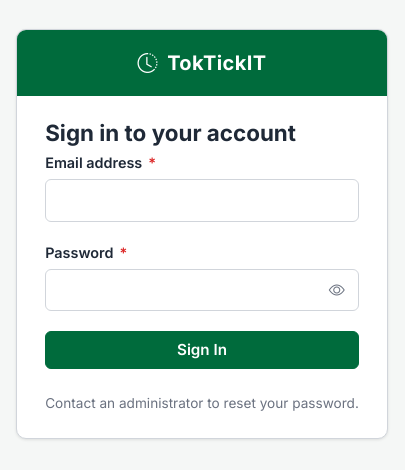
Login — client validation (UI-01, AC-05) › clears a field error as soon as the field is edited
In the password field labelled "Password *": (202, 290) 45,269 -> 359,311, type "Requester1!"
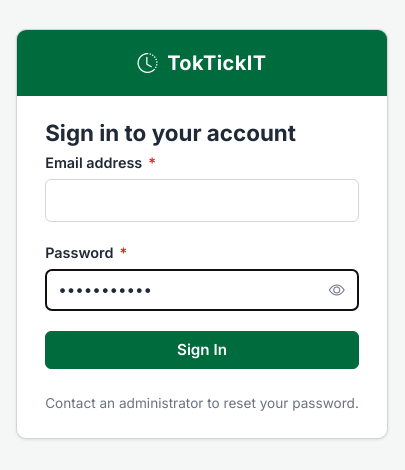
Click the button "Sign In": (202, 350) 45,331 -> 359,369
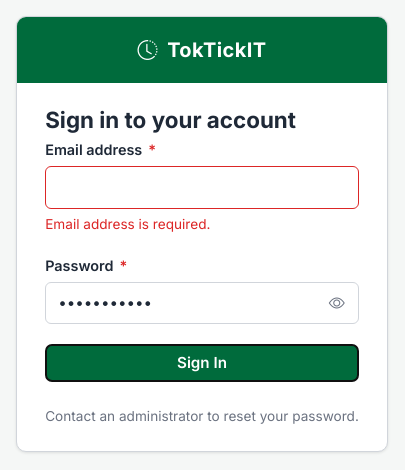
Now the text "Email address is required." is shown, box 45,216 -> 210,232
In the field labelled "Email address *": (202, 188) 45,166 -> 359,209, type "j"
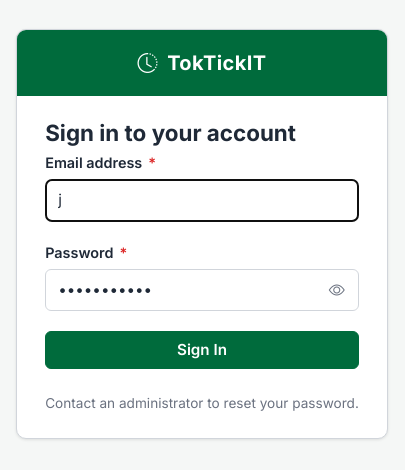
Now the text "Email address is required" is gone
